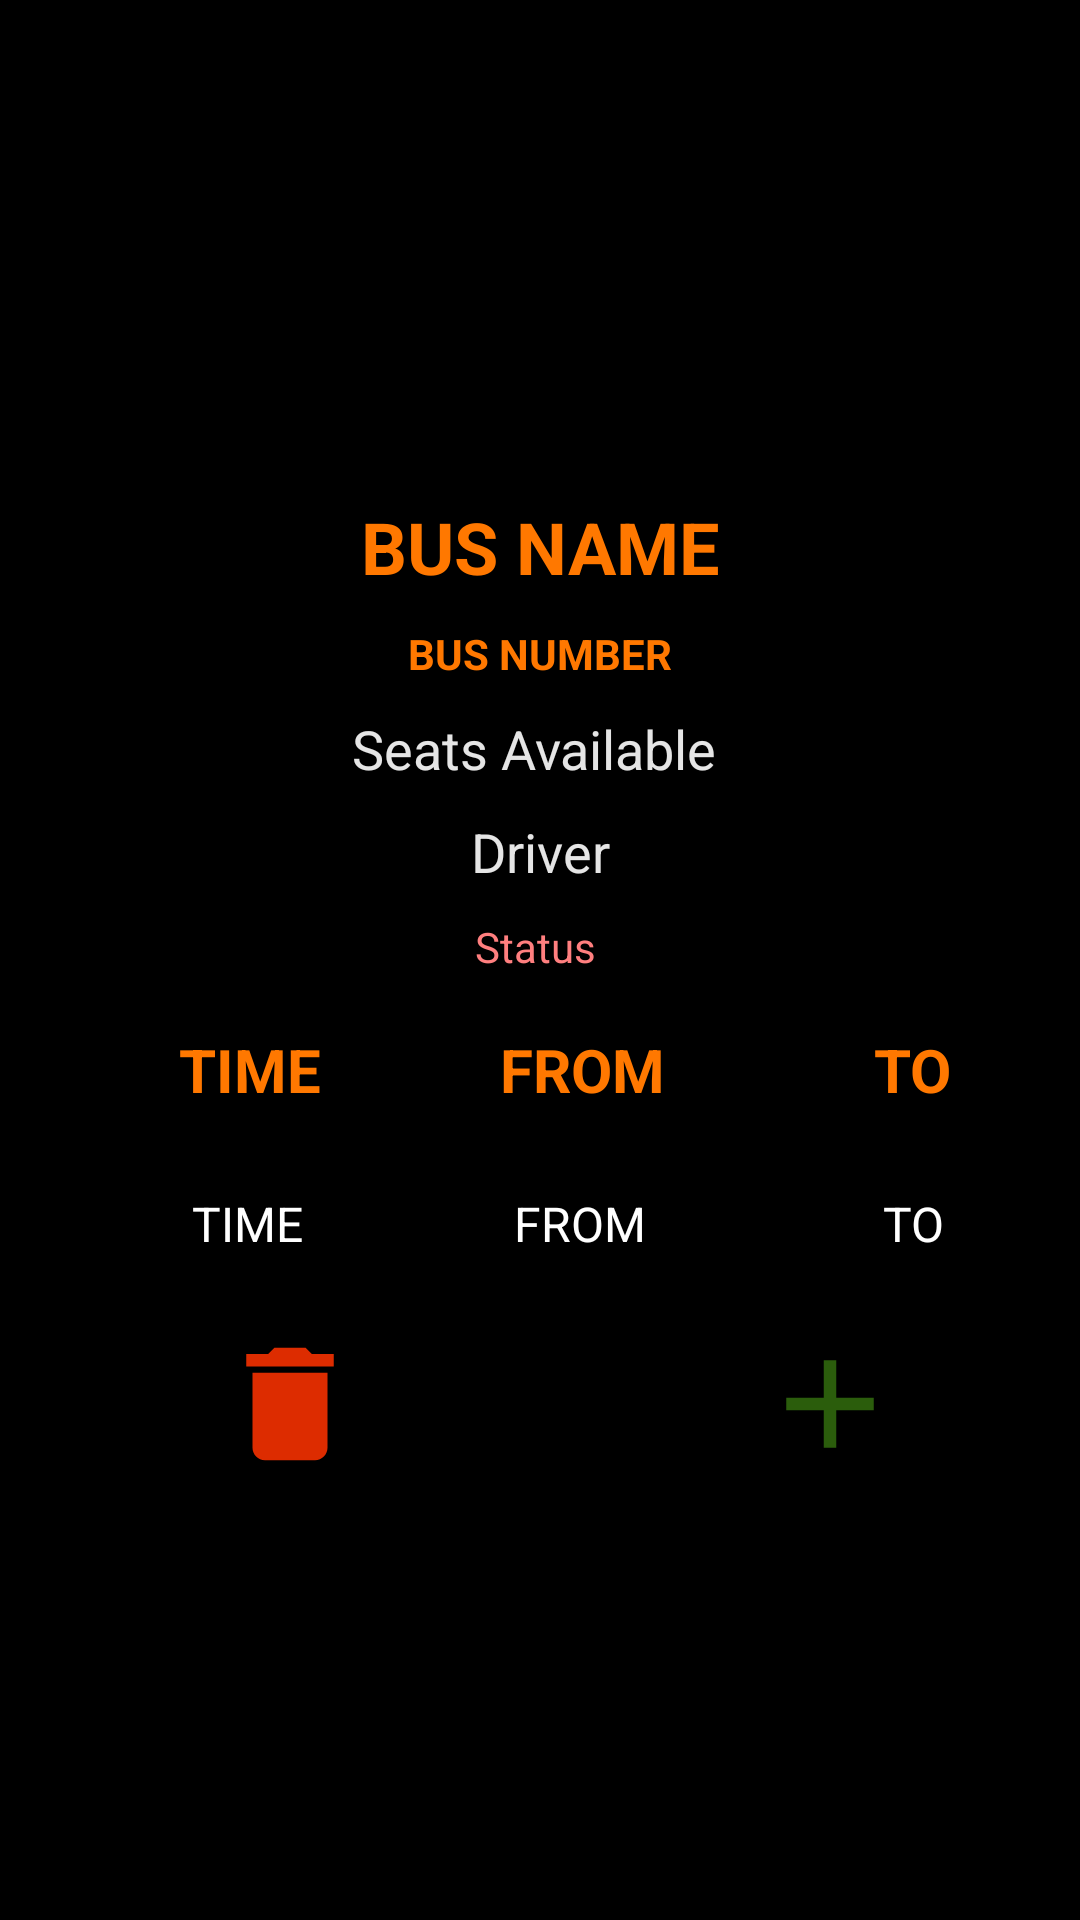

Point at icon controls on the screen. Image size 1080x1920, points as (x=x, y=y).
add: (x=830, y=1404)
delete: (x=290, y=1404)
